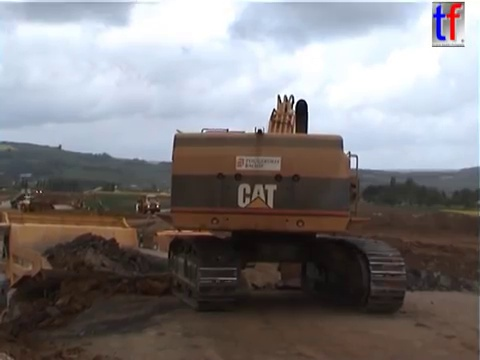excavator: (163, 91, 412, 316)
truck: (1, 212, 211, 360), (150, 227, 248, 312), (125, 192, 162, 216), (16, 194, 57, 215)
